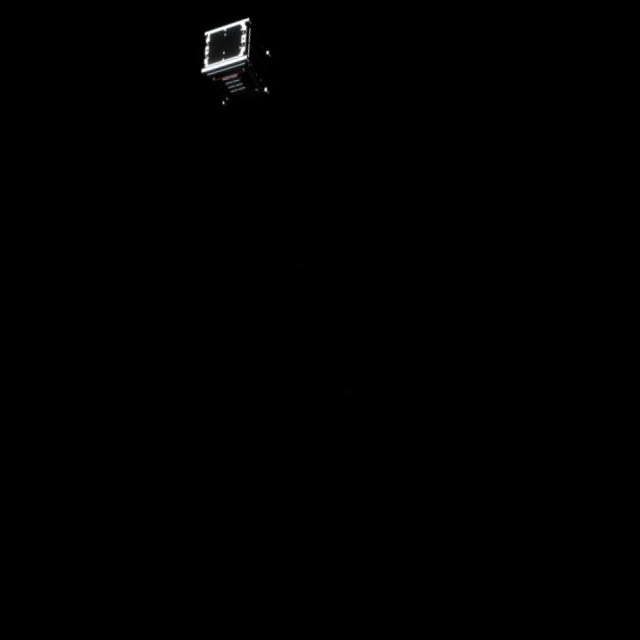medium_debris: (185, 13, 295, 123)
